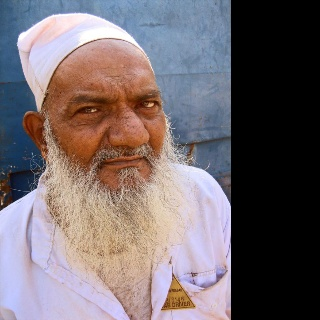without_mask: (45, 37, 167, 193)
